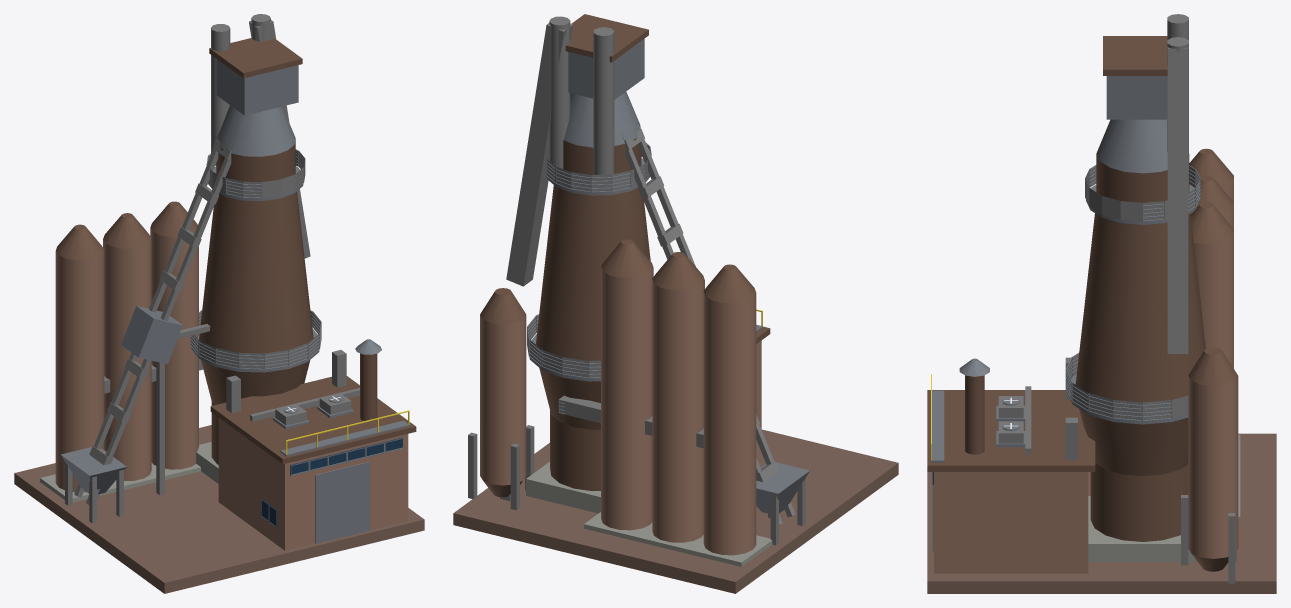
Rendered from mashup-main-mid-prebuilt_close.fbx.
The picture shows the model from 3 angles, left to right: view 1: azimuth 30°, elevation 25°; view 2: azimuth 150°, elevation 25°; view 3: azimuth 270°, elevation 25°; orthographic projection. The views are drawn at different scales.
Parts seen in each view (by area): view 1: a1023.Main.001; view 2: a1023.Main.001; view 3: a1023.Main.001.
Part boxes in pixels (bbox=[...]): a1023.Main.001: bbox=[14, 14, 424, 593]; a1023.Main.001: bbox=[453, 14, 898, 593]; a1023.Main.001: bbox=[927, 14, 1276, 593].
Size of the model in its own units: 15.66 by 25.3 by 15.4.
